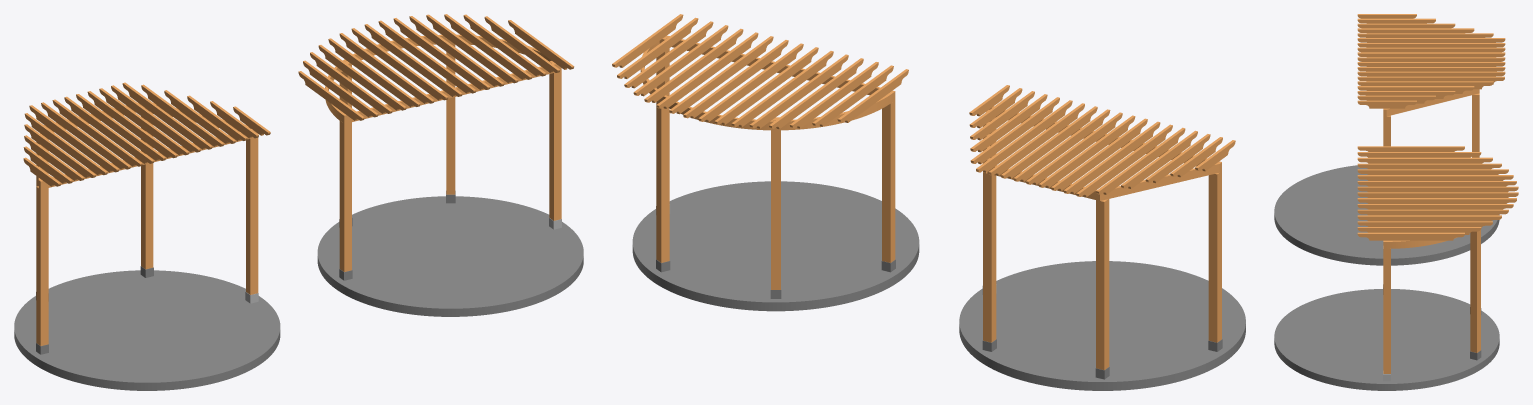
File: ПерголаВместе.obj
The picture shows the model from 3 angles, left to right: view 1: azimuth 30°, elevation 25°; view 2: azimuth 150°, elevation 25°; view 3: azimuth 270°, elevation 25°; orthographic projection. The views are drawn at different scales.
Bounding box in the file's own units: 10.19 × 3.46 × 4.77.
